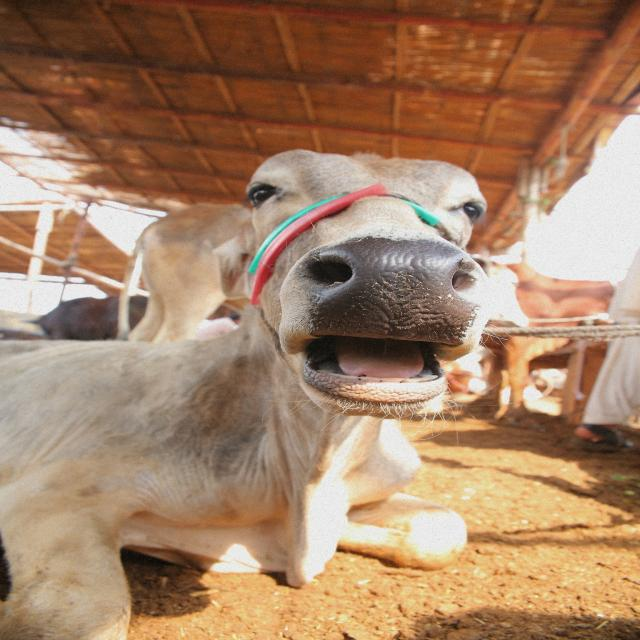muzzles: (294, 235, 492, 347)
